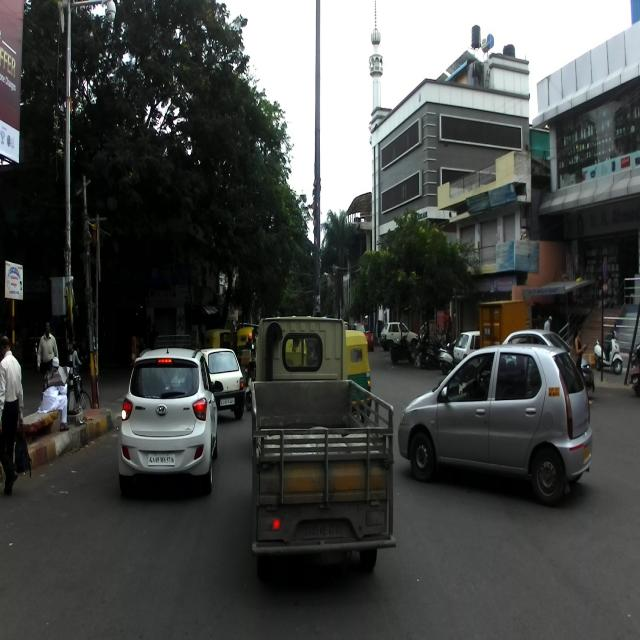car: (397, 342, 593, 507), (118, 340, 225, 503)
truck: (249, 312, 394, 588)
